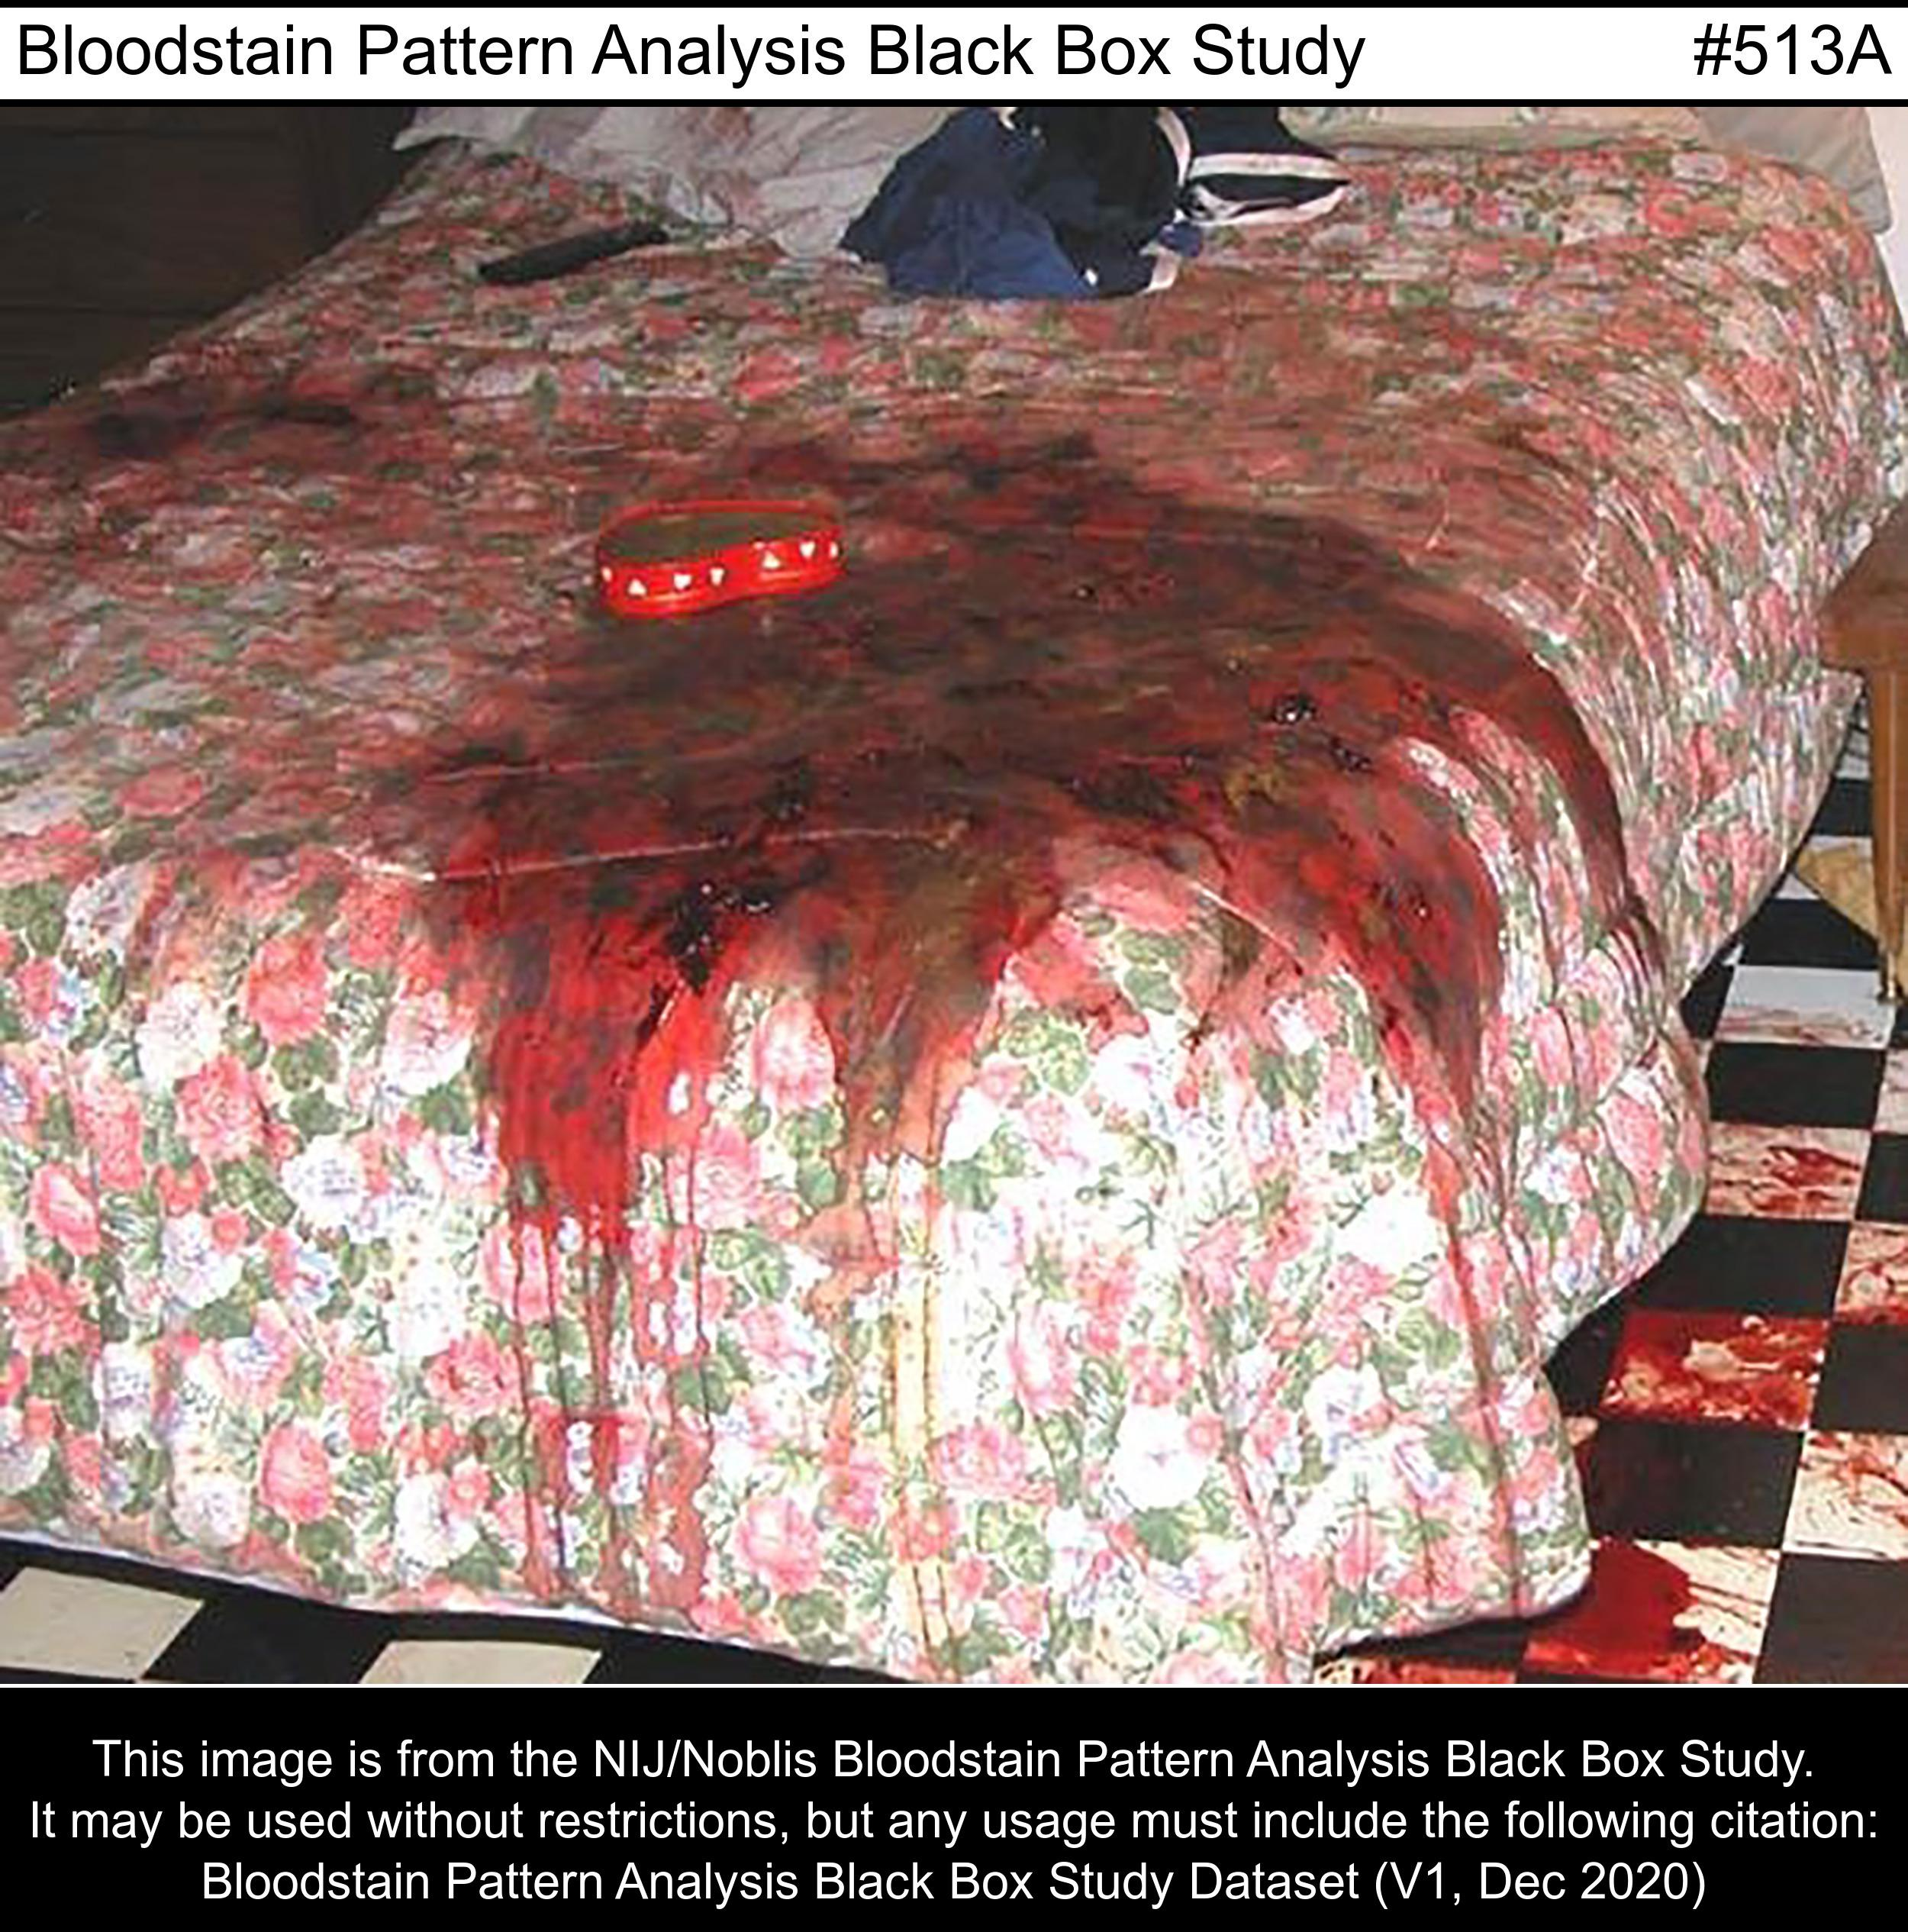Passive: (500, 419, 1656, 1258), (1326, 1172, 1908, 1666)
